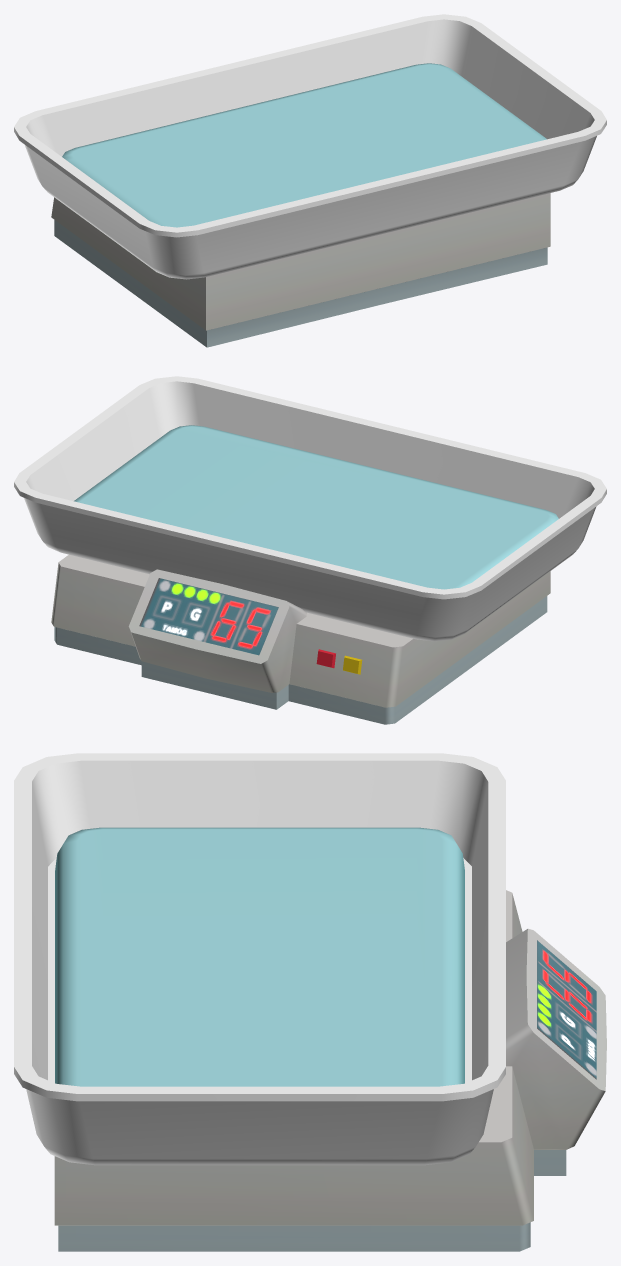
Rendered from Pfb_JLAB_Infant_Scale.fbx.
3 renders of one model, top to bottom at view 1: azimuth 30°, elevation 25°; view 2: azimuth 150°, elevation 25°; view 3: azimuth 270°, elevation 25°, orthographic. The views are drawn at different scales.
Parts seen in each view (by area): view 1: Color, Glass; view 2: Color, Glass, Monitors; view 3: Color, Glass, Monitors.
Boxes of the visible parts, x1,y1,x2,y2 form: Color: [51, 63, 550, 347]; Glass: [14, 14, 606, 279]; Color: [51, 425, 558, 724]; Glass: [14, 376, 606, 641]; Monitors: [139, 578, 278, 655]; Color: [54, 827, 606, 1251]; Glass: [14, 753, 505, 1165]; Monitors: [537, 940, 596, 1079].
Bounding box in the file's own units: 0.791 × 0.219 × 0.5815.
Materials: 3 (3 with a texture image).
